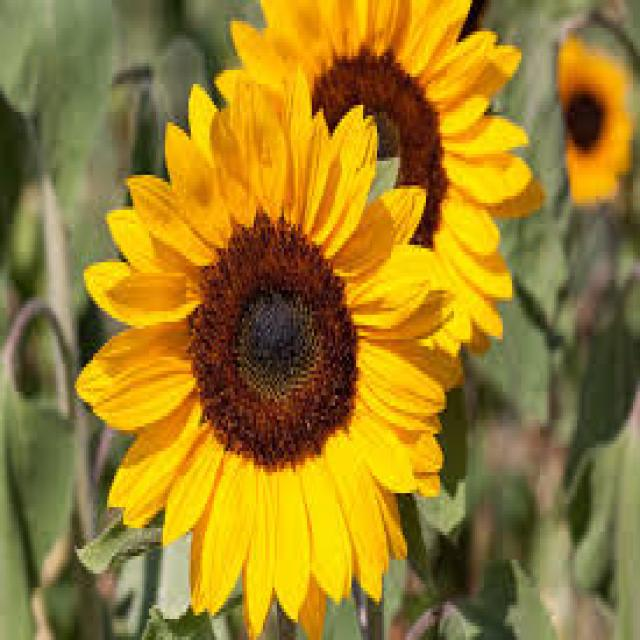sunflower: (71, 59, 475, 640), (206, 0, 558, 399), (542, 36, 640, 220)
